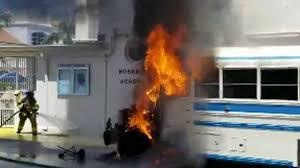fire: (124, 22, 195, 139)
